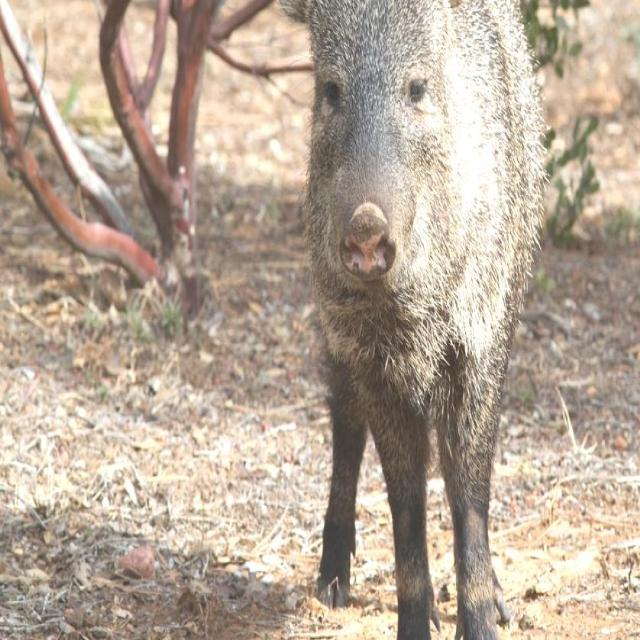pig: (285, 2, 544, 638)
